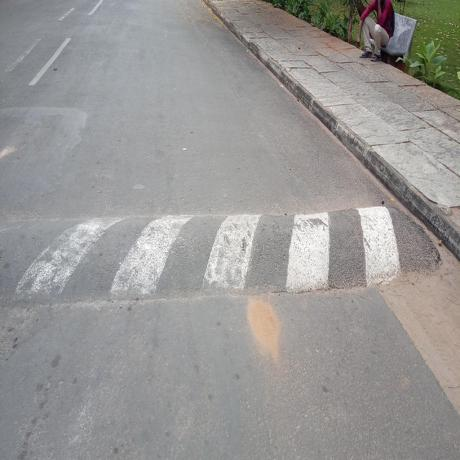Speed Bump: (1, 203, 446, 313)
